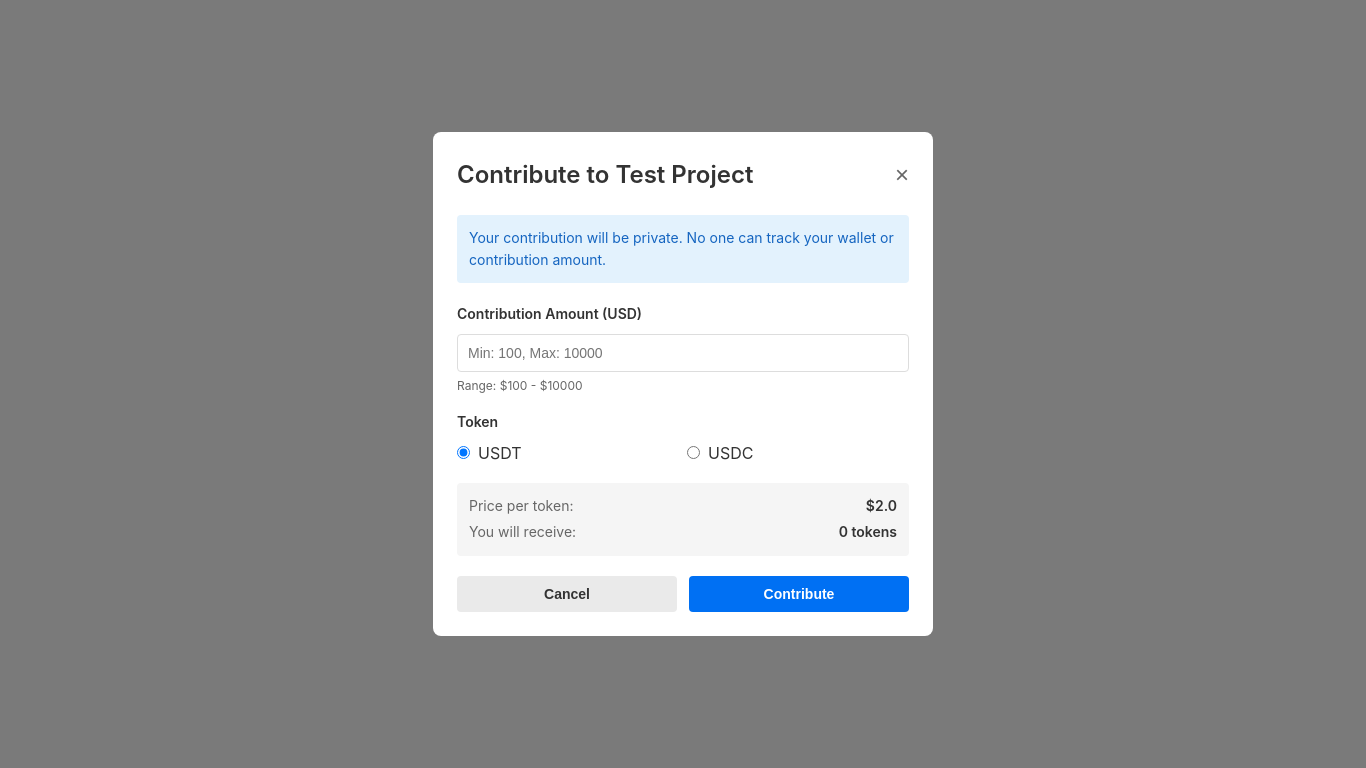
Test: LaunchpadContributeDialog › should handle API errors
In the number field with placeholder "Min: 100, Max: 10000": (683, 353) top-left (457, 334), bottom-right (909, 372), type "1000"
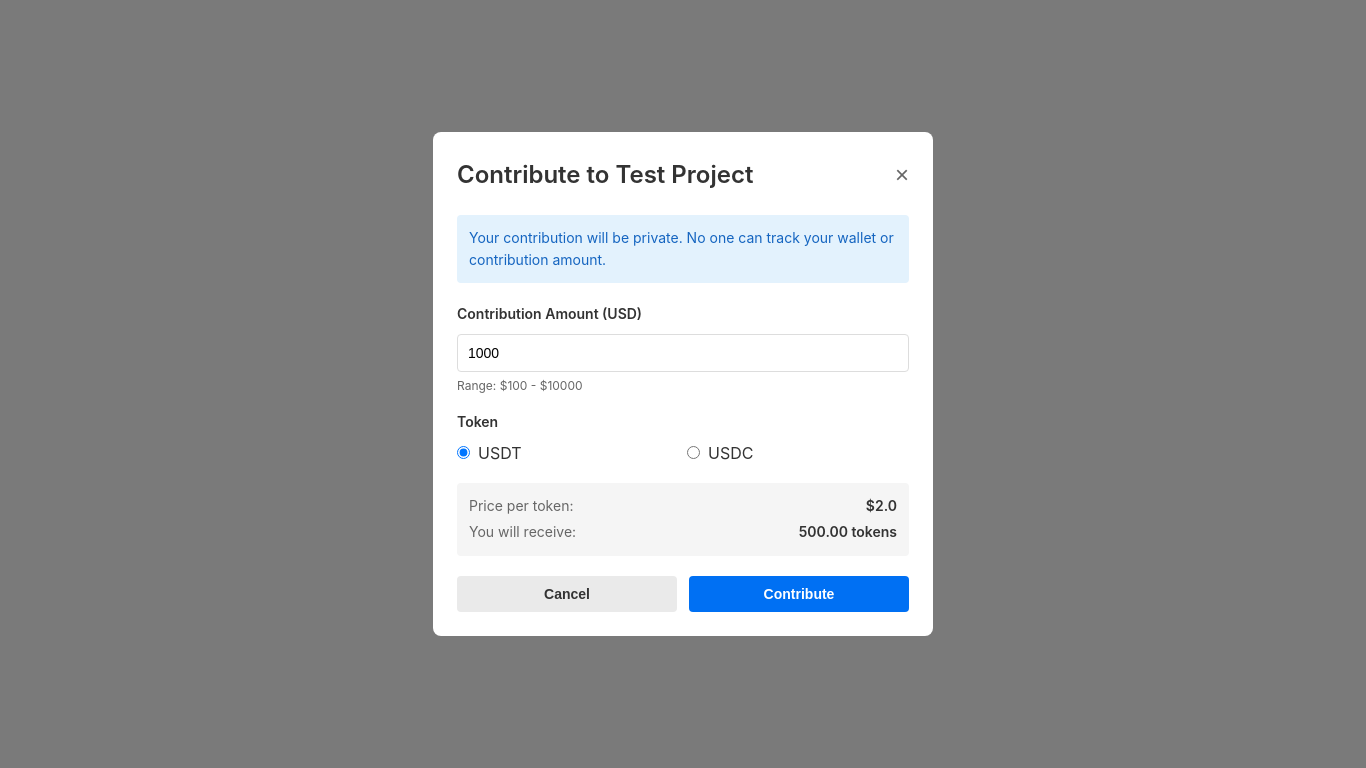
Click the button "Contribute": (799, 594) top-left (689, 576), bottom-right (909, 612)
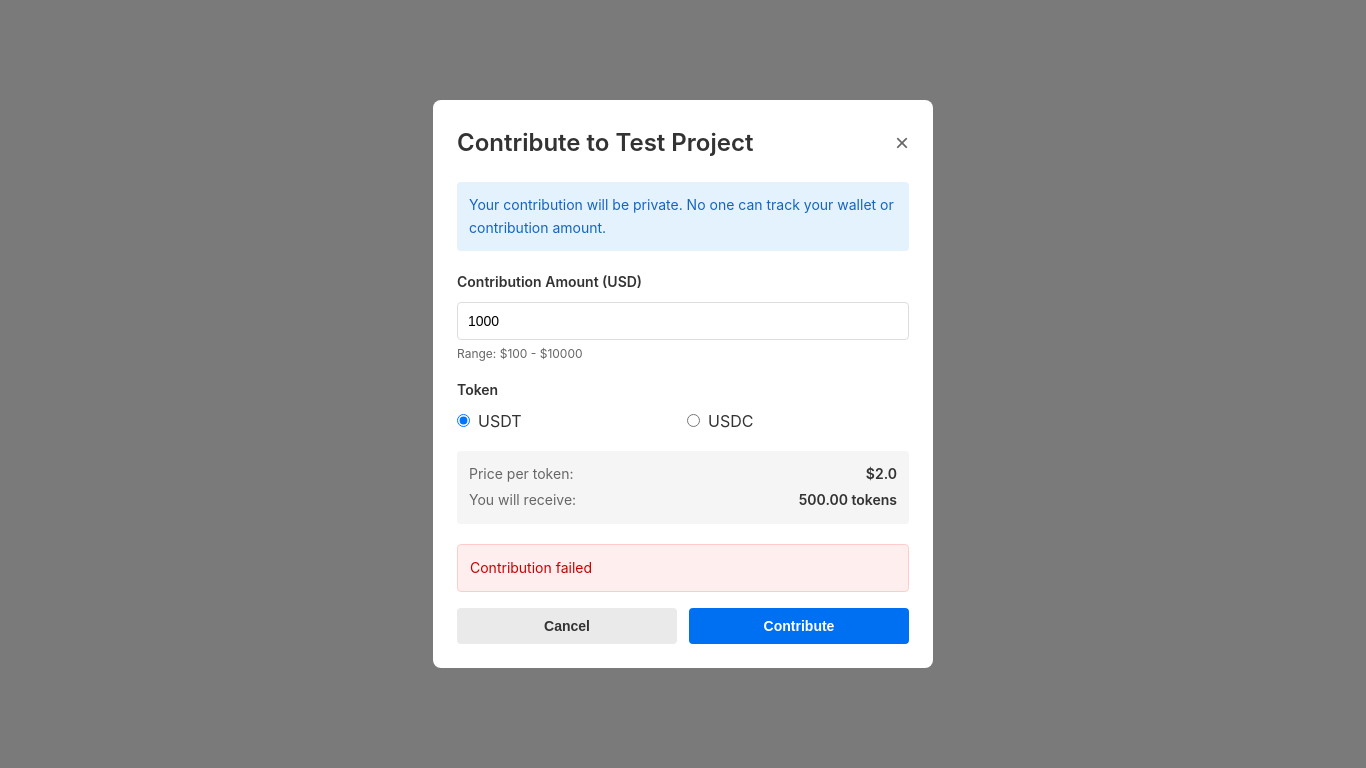
Check: the text "Contribution failed" is shown, box top-left (470, 559), bottom-right (592, 576)
